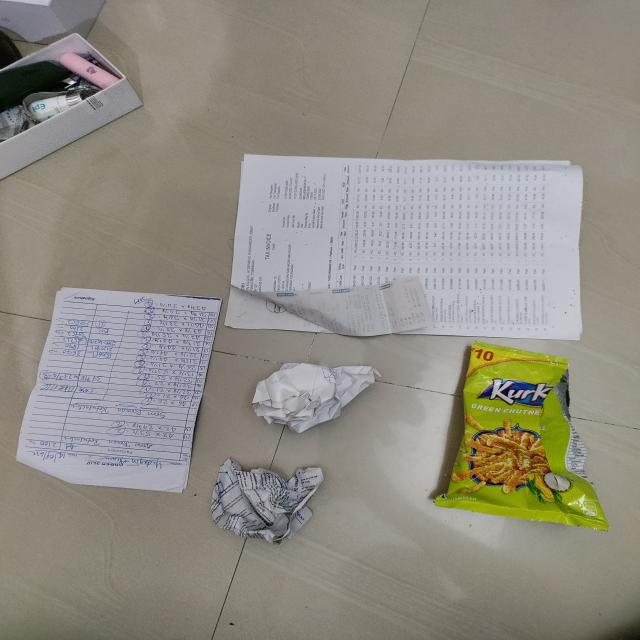dry: (208, 111, 620, 341), (0, 246, 207, 506), (418, 338, 625, 542), (208, 445, 339, 544), (264, 349, 382, 440)
